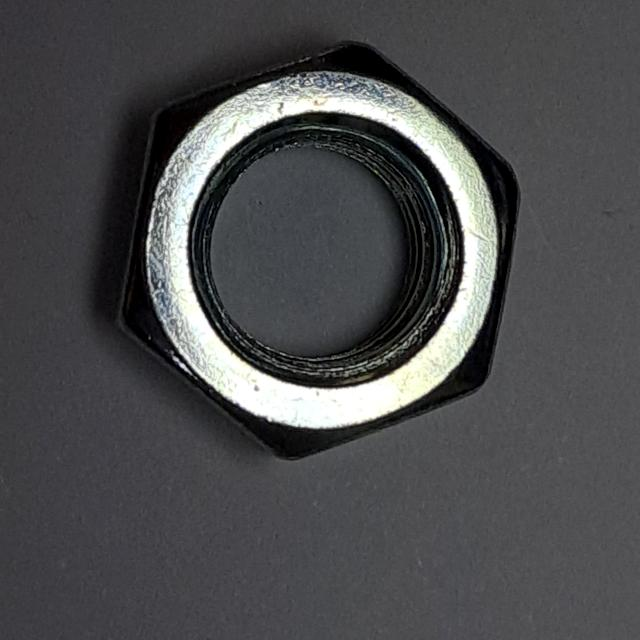Excellent: (98, 27, 533, 478)
